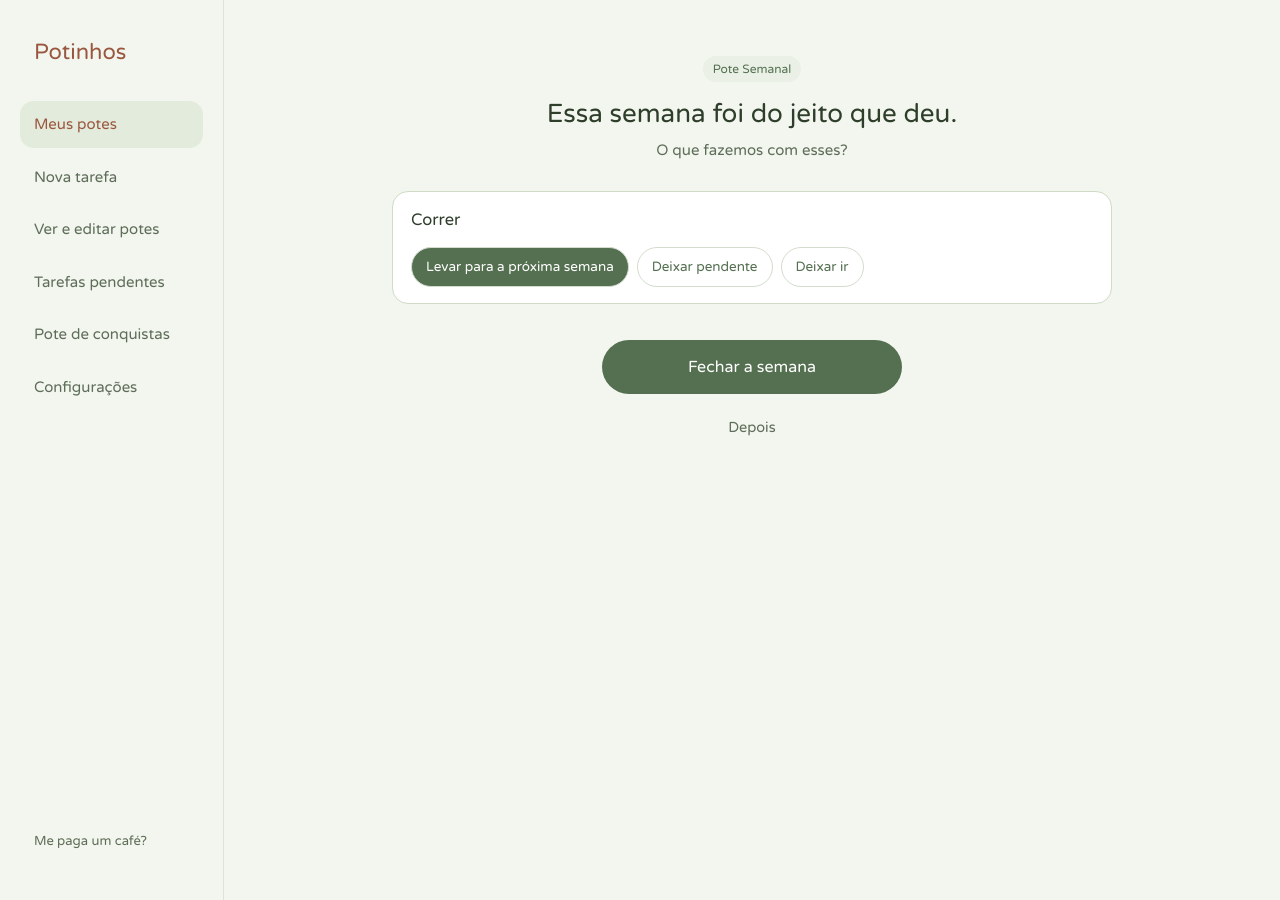
it: Weekend › after the week turned, opens before the home only once
expect the heading "Essa semana foi do jeito que deu." is shown: met, box [547,98,957,129]
What coordinates should you click on to do the following:
click the button "Depois"
I would click on:
 (752, 428)
Its box is [716,406,788,450].
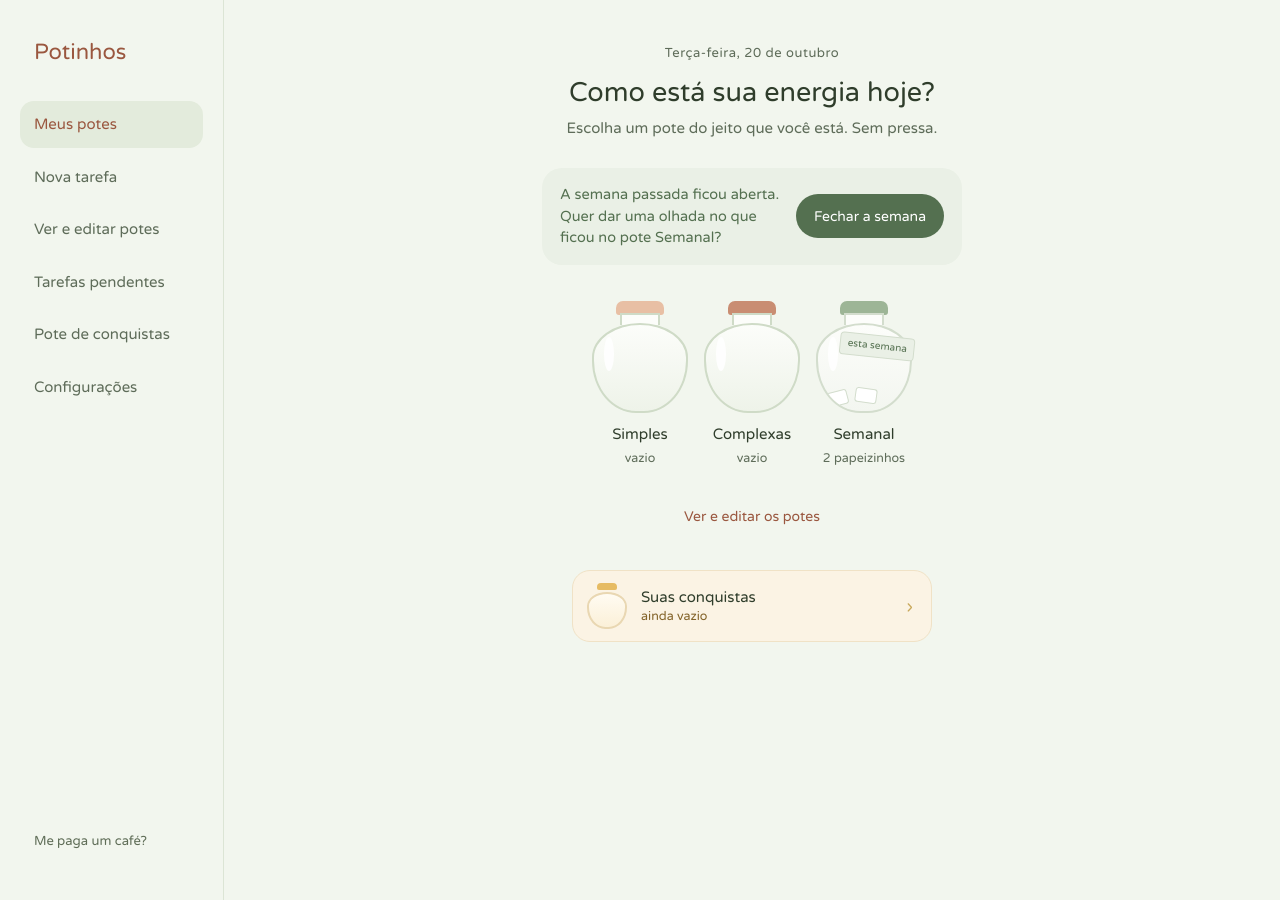
expect the text "A semana passada ficou aberta" is shown: met, box [560,186,779,246]
